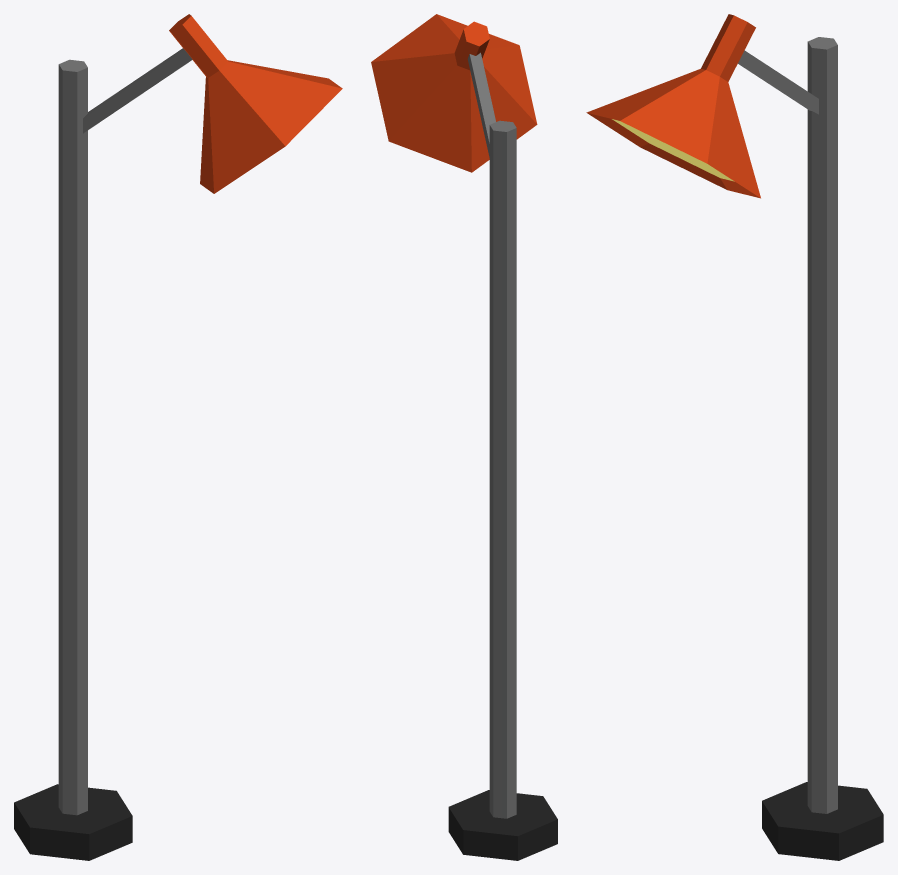
Rendered from den1.fbx.
3 views of the same model, side by side, from view 1: azimuth 30°, elevation 25°; view 2: azimuth 150°, elevation 25°; view 3: azimuth 270°, elevation 25° (orthographic). The views are drawn at different scales.
Parts seen in each view (by area): view 1: den1; view 2: den1; view 3: den1.
Boxes of the visible parts, bbox=[...] form: den1: bbox=[14, 14, 342, 860]; den1: bbox=[371, 14, 557, 860]; den1: bbox=[586, 14, 883, 860].
Size of the model in its own units: 317 by 1007 by 317.
